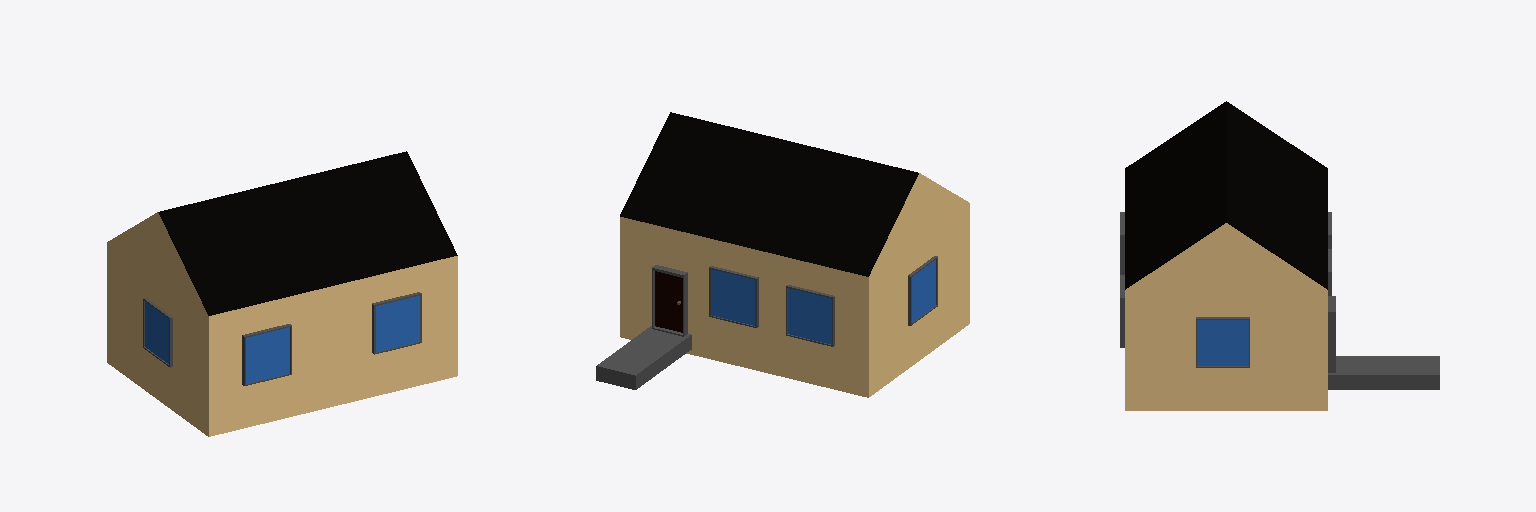
The model's file is House10m.obj.
3 renders of one model, left to right at view 1: azimuth 30°, elevation 25°; view 2: azimuth 150°, elevation 25°; view 3: azimuth 270°, elevation 25°, orthographic.
Visible parts, largest first — view 1: Road_End_RoadEnd; view 2: Road_End_RoadEnd; view 3: Road_End_RoadEnd.
Part boxes in pixels (x1,y1,x2,y2): Road_End_RoadEnd: (107, 151, 457, 436); Road_End_RoadEnd: (596, 112, 969, 397); Road_End_RoadEnd: (1120, 101, 1439, 410).
Size of the model in its own units: 9.06 by 6.36 by 9.79.